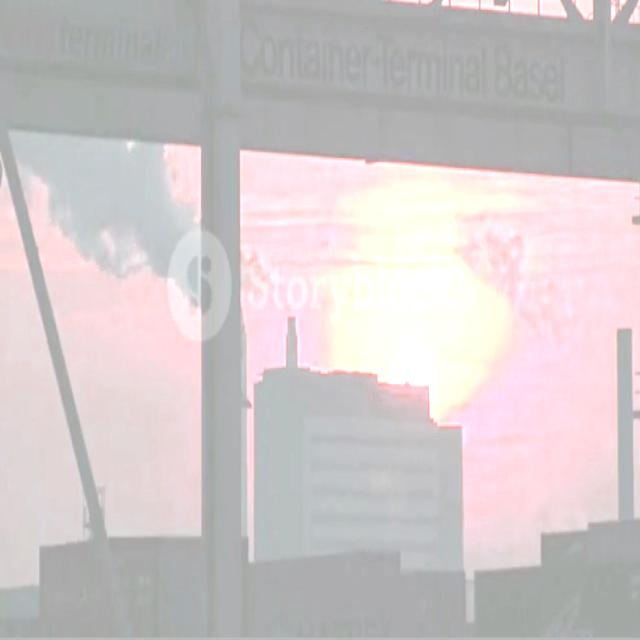smoke: (11, 133, 198, 277), (455, 213, 591, 341), (242, 248, 276, 304)
